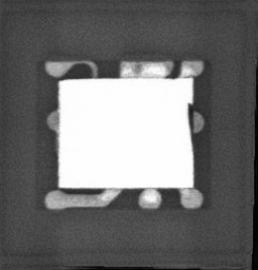DIE_BROKEN: (185, 102, 195, 135)
